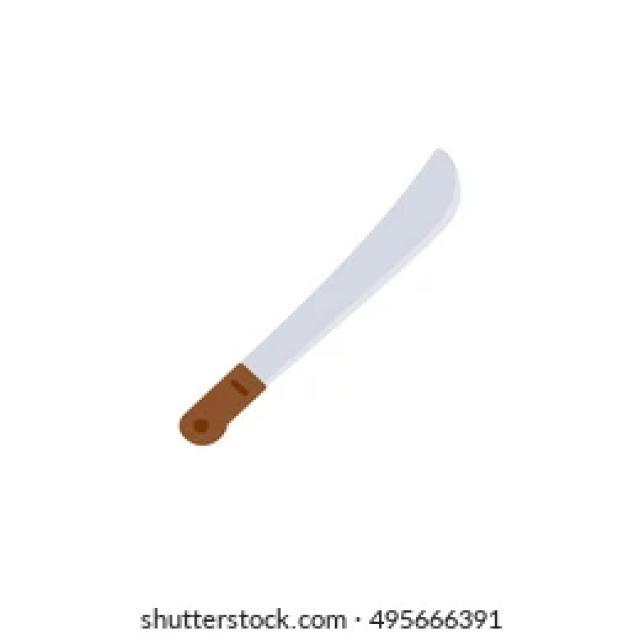machete: (165, 108, 472, 464)
